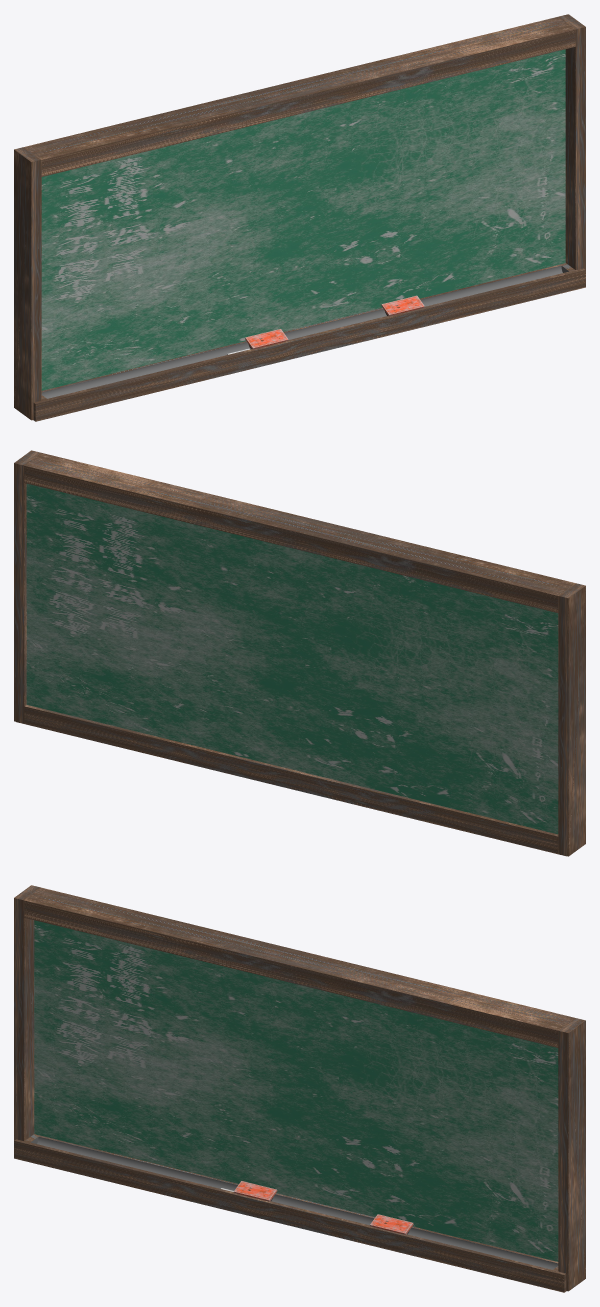
Rendered from black_board.glb.
3 views of the same model, one above another, from view 1: azimuth 30°, elevation 25°; view 2: azimuth 150°, elevation 25°; view 3: azimuth 330°, elevation 25° (orthographic).
Visible parts, largest first — view 1: defaultMaterial (×3); view 2: defaultMaterial (×2); view 3: defaultMaterial (×3).
Part boxes in pixels (x1,y1,x2,y2): defaultMaterial (×3): [14, 14, 585, 421]; defaultMaterial (×2): [14, 450, 585, 856]; defaultMaterial (×3): [14, 885, 585, 1292].
Bounding box in the file's own units: 312 × 139 × 18.91.
5 materials, 5 textured.
